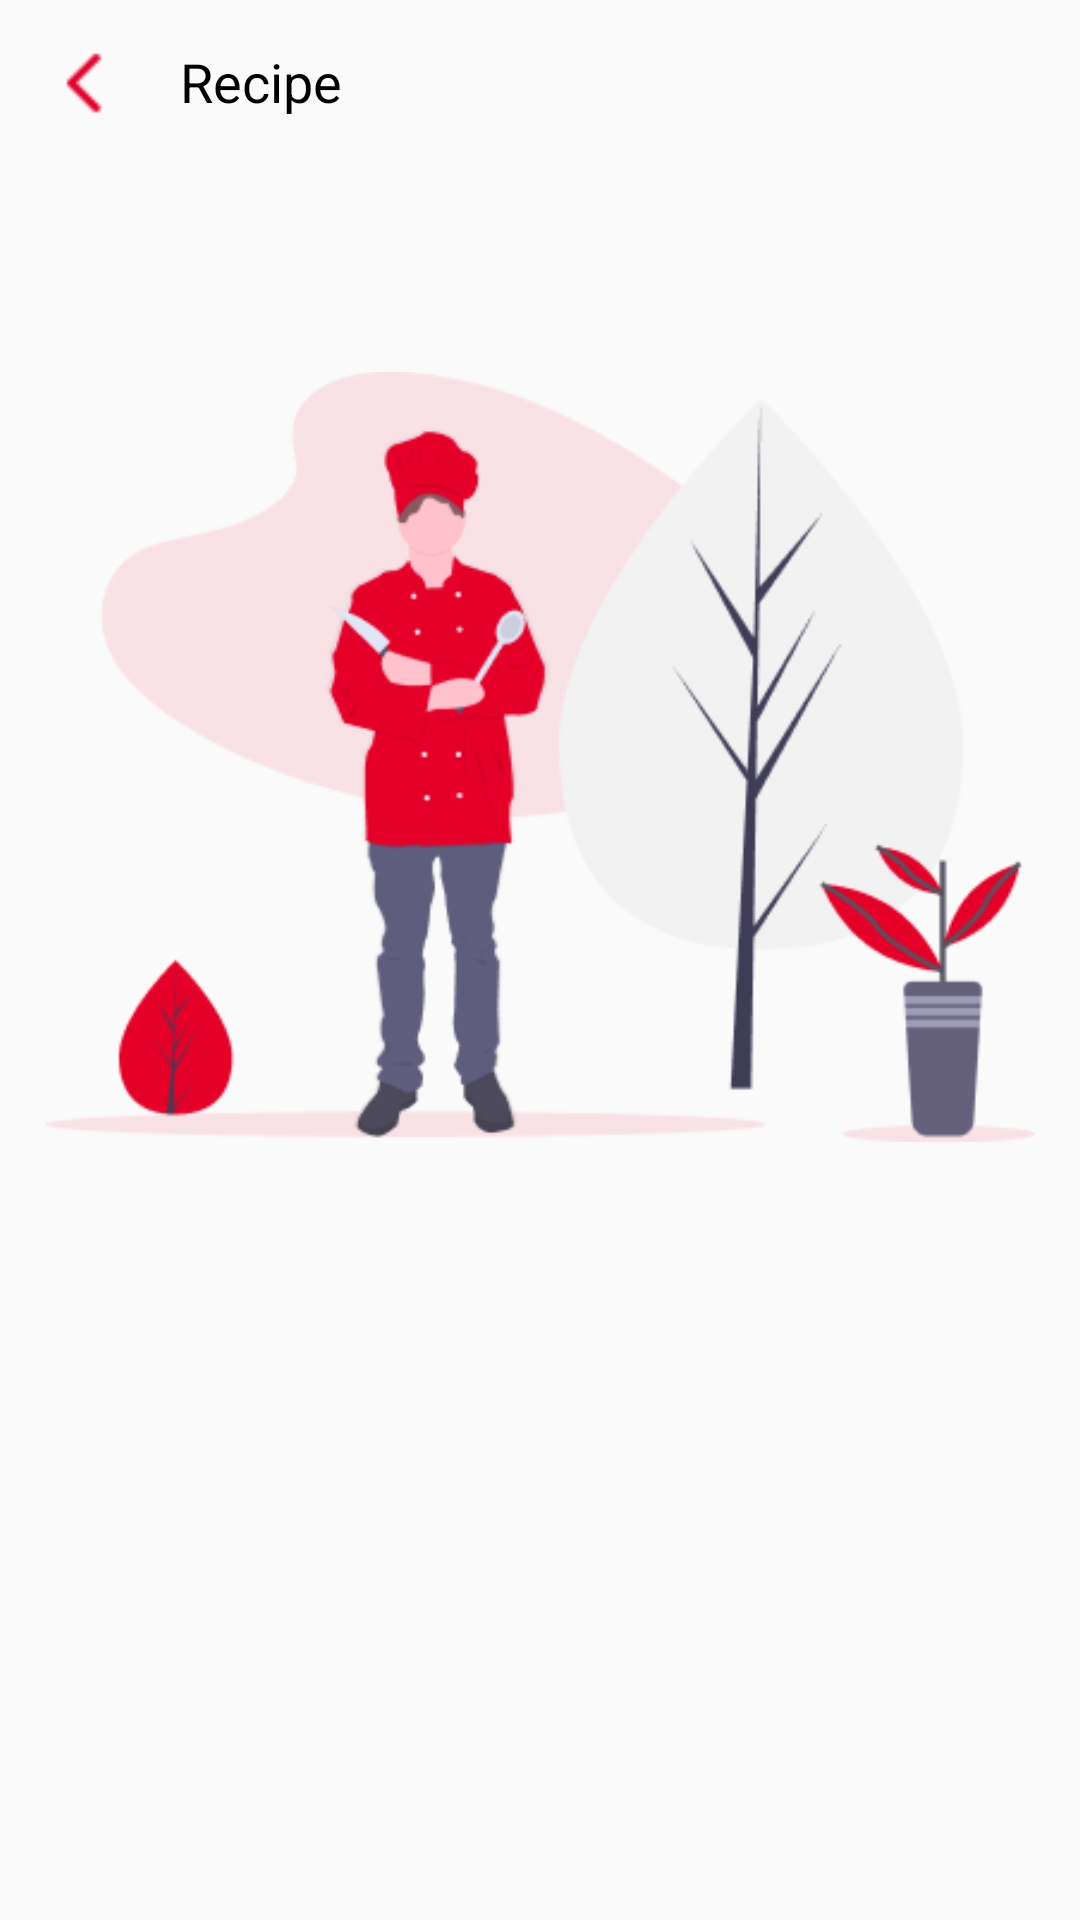

Screen size 1080w x 1920h. Icon name, then its box in pixels as [x1=x1, y1=y1, x2=x2, y2=y2]:
back: [x1=66, y1=53, x2=102, y2=113]
